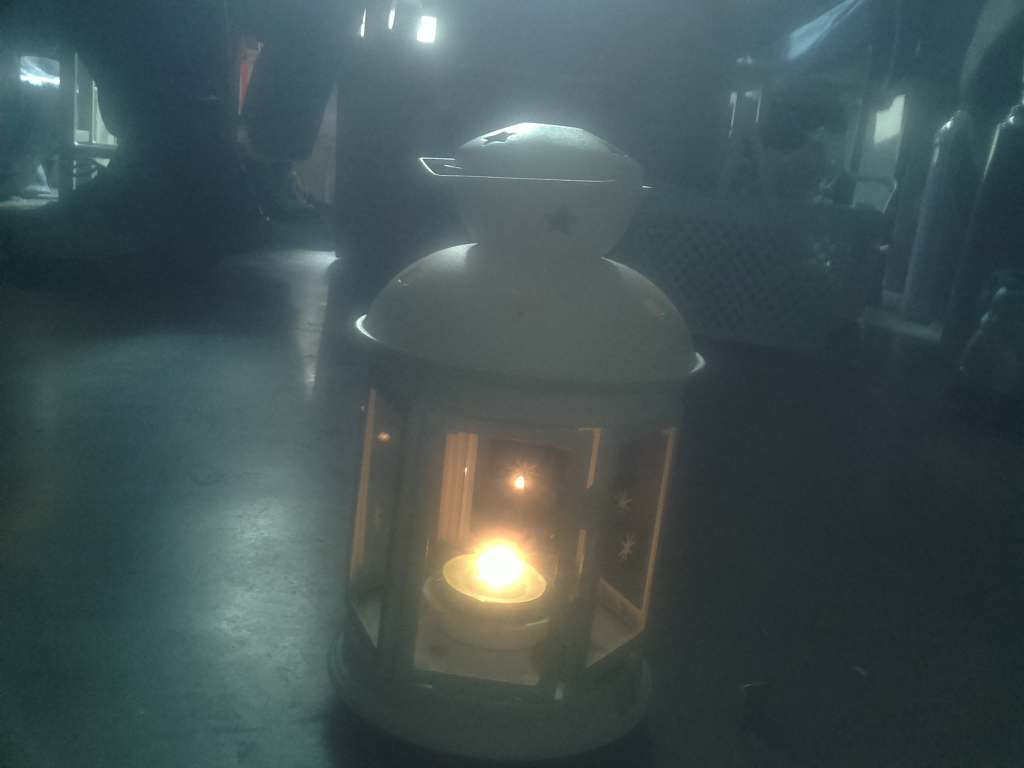fire: (444, 526, 554, 613)
